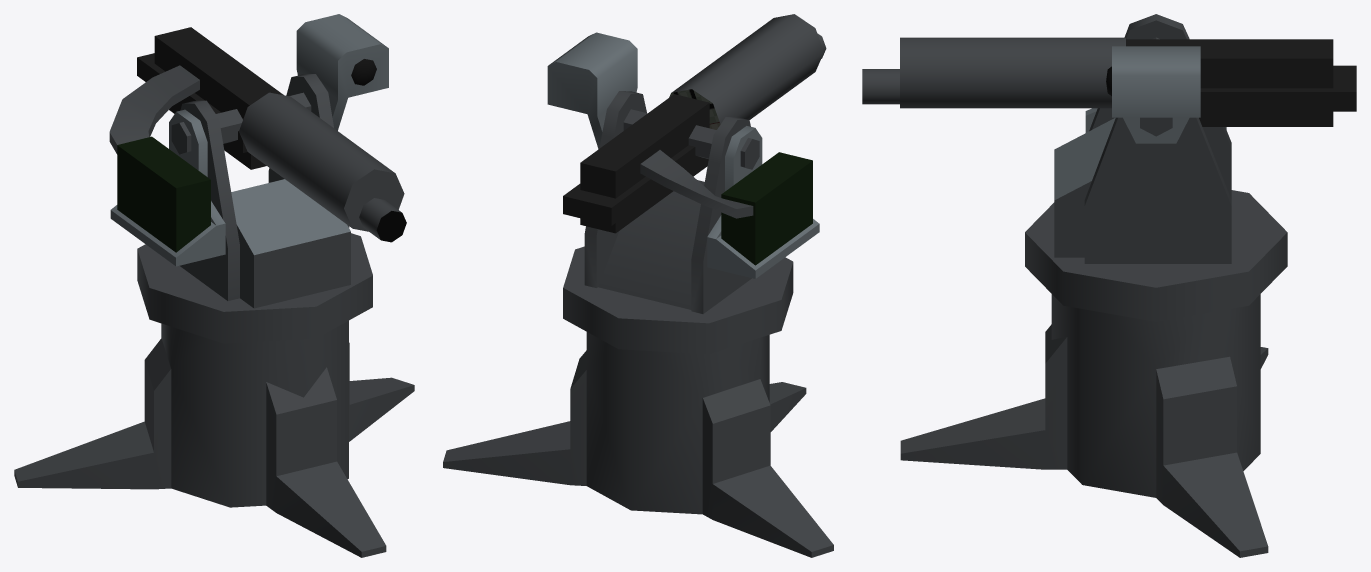
Rendered from Turret.glb.
3 views of the same model, side by side, from view 1: azimuth 30°, elevation 25°; view 2: azimuth 150°, elevation 25°; view 3: azimuth 270°, elevation 25° (orthographic). The views are drawn at different scales.
Visible parts, largest first — view 1: Turret Base, obj1, obj2; view 2: Turret Base, obj1, obj2; view 3: Turret Base, obj2, obj1.
Boxes of the visible parts, bbox=[...] form: Turret Base: bbox=[14, 320, 414, 557]; obj1: bbox=[109, 14, 406, 266]; obj2: bbox=[137, 74, 372, 343]; Turret Base: bbox=[443, 332, 833, 557]; obj1: bbox=[547, 14, 826, 278]; obj2: bbox=[563, 91, 793, 354]; Turret Base: bbox=[900, 294, 1268, 557]; obj2: bbox=[1025, 14, 1287, 321]; obj1: bbox=[862, 37, 1356, 143].
Size of the model in its own units: 0.1308 by 0.1303 by 0.1312.
Materials: 7 (1 with a texture image).
